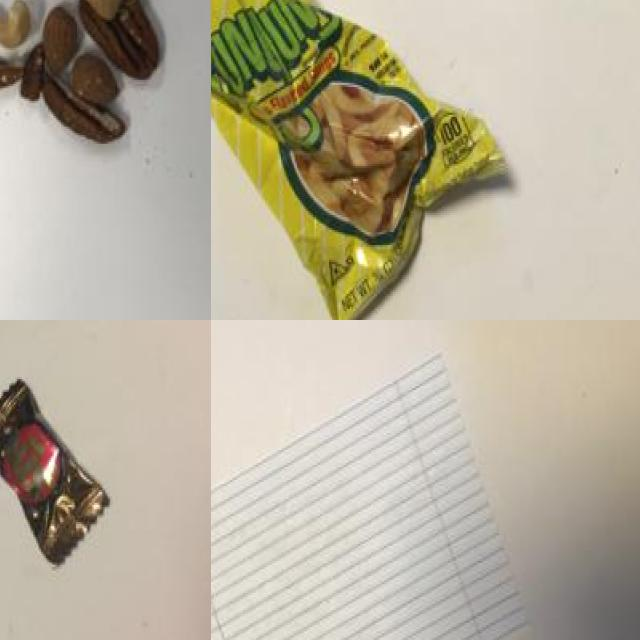compost: (0, 0, 180, 189)
paper: (211, 362, 519, 640)
trash: (211, 0, 525, 320), (0, 358, 133, 577)
